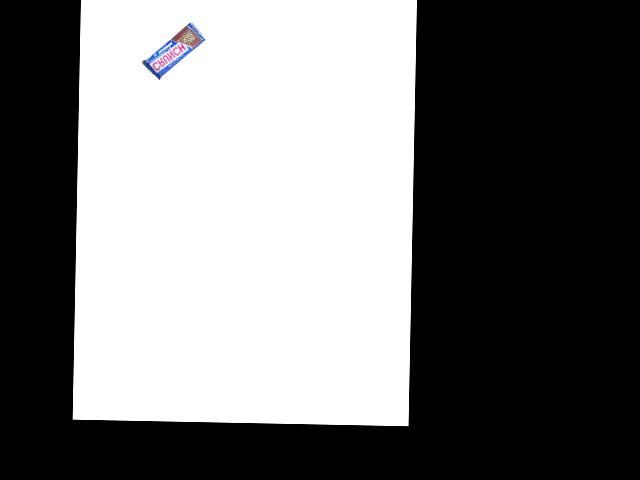chocolate: (140, 20, 207, 81)
